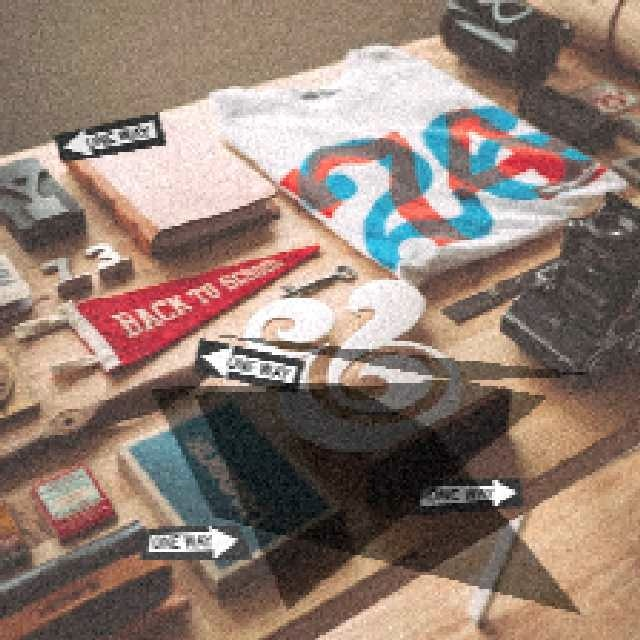ONE_WAY_ left: (189, 336, 303, 392), (50, 110, 164, 161)
ONE_WAY_ right: (408, 476, 522, 514), (137, 522, 251, 560)
